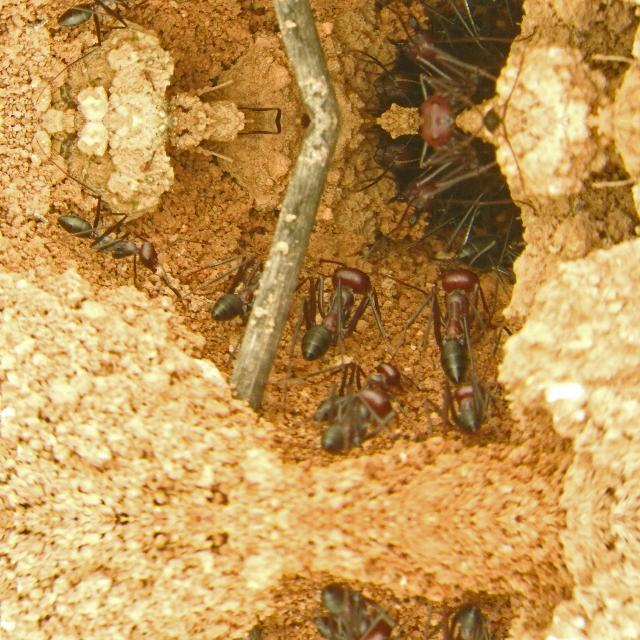Cataglyphis: (405, 258, 507, 384), (292, 255, 396, 362), (373, 120, 519, 190), (373, 50, 519, 120), (46, 195, 174, 271), (384, 168, 506, 230), (384, 10, 506, 72), (198, 248, 282, 336), (318, 354, 414, 421), (306, 393, 396, 462), (442, 208, 534, 274), (306, 574, 396, 640), (44, 0, 173, 44), (446, 368, 502, 442), (442, 0, 532, 32), (446, 594, 502, 640), (316, 616, 414, 640)
